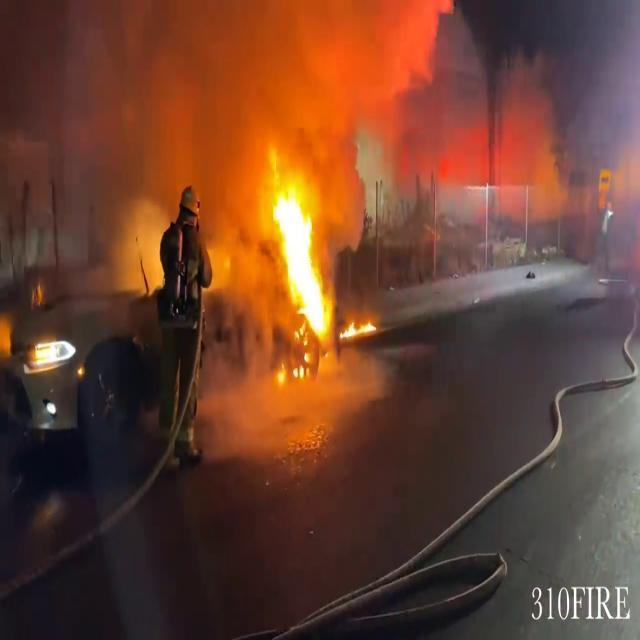Fire: (264, 166, 339, 352)
Smoke: (26, 1, 592, 210)
